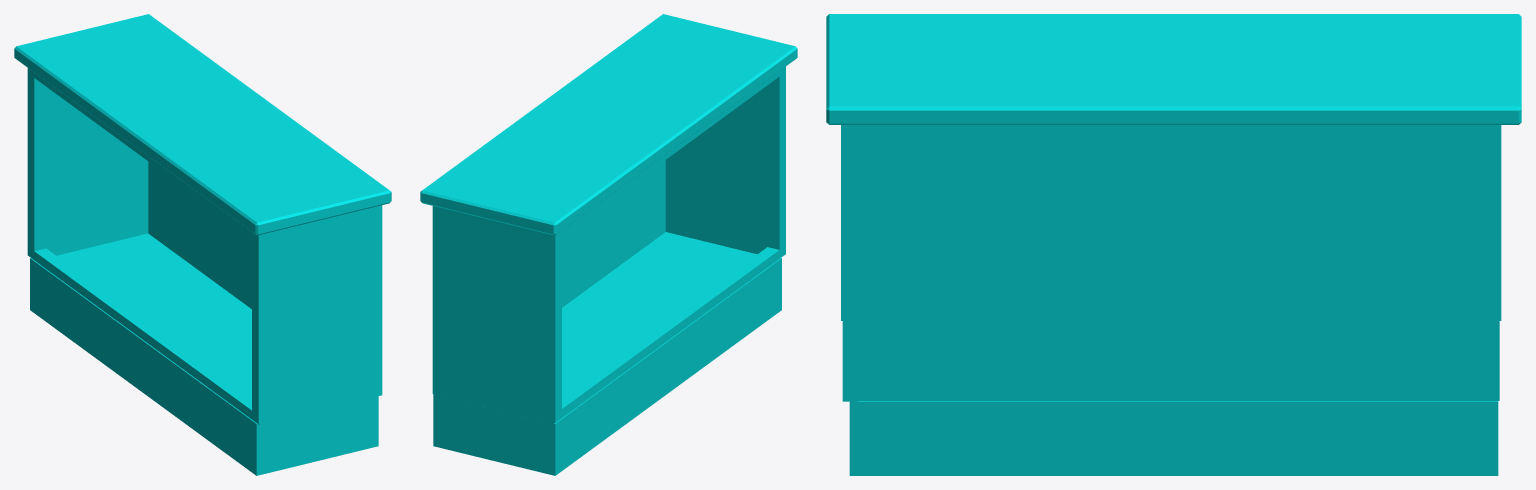
Rendered from Cupboard_01.fbx.
3 renders of one model, left to right at view 1: azimuth 30°, elevation 25°; view 2: azimuth 150°, elevation 25°; view 3: azimuth 270°, elevation 25°, orthographic. The views are drawn at different scales.
Visible parts, largest first — view 1: Cupboard_01; view 2: Cupboard_01; view 3: Cupboard_01.
Boxes of the visible parts, x1=… form: Cupboard_01: x1=14, y1=14, x2=391, y2=475; Cupboard_01: x1=420, y1=14, x2=797, y2=475; Cupboard_01: x1=826, y1=14, x2=1521, y2=475.
Size of the model in its own units: 49.53 by 90.42 by 153.
